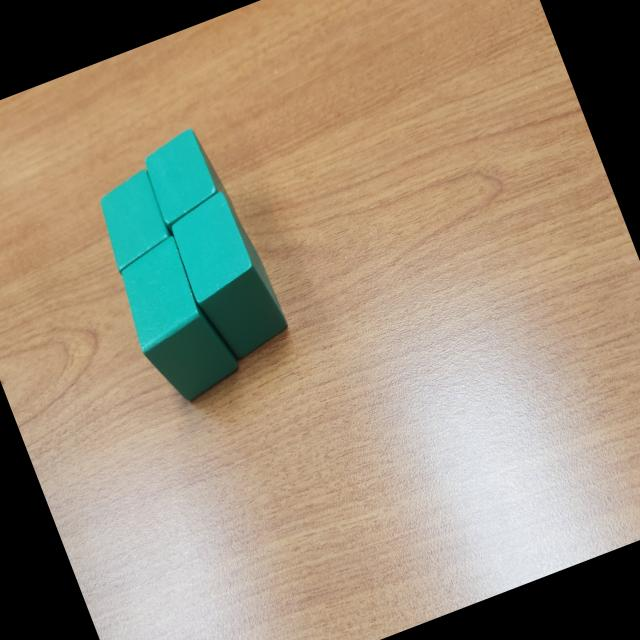green: (107, 228, 246, 412), (162, 184, 296, 369), (135, 124, 241, 250), (87, 167, 181, 277)
